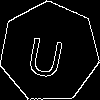U: (24, 27, 68, 80)
